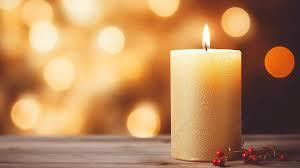candle: (169, 23, 243, 161)
